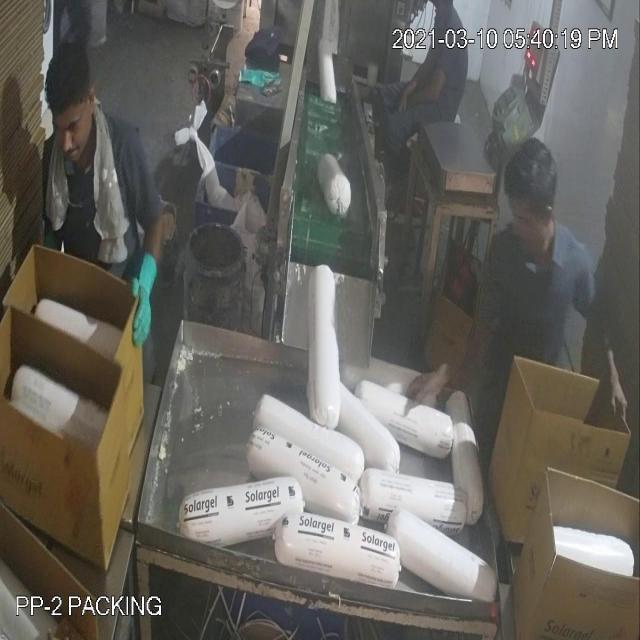No_Gloves: (36, 60, 608, 372)
